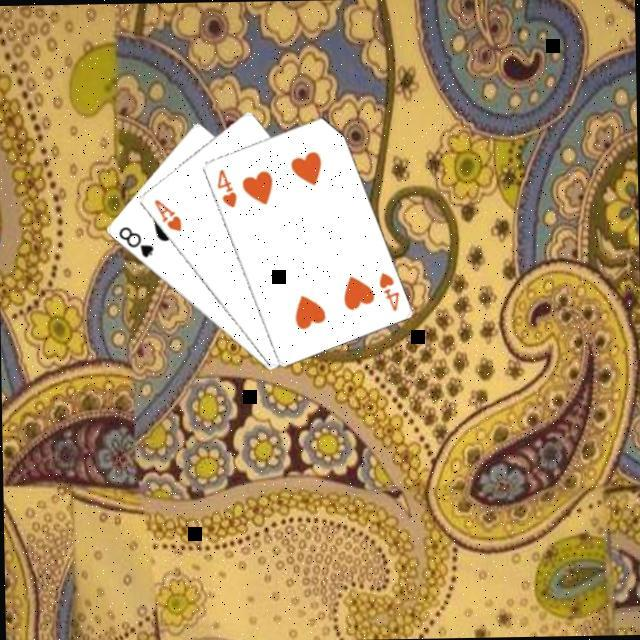4H: (376, 271, 404, 317), (214, 167, 241, 213)
8S: (116, 224, 157, 263)
AH: (151, 196, 186, 237)
